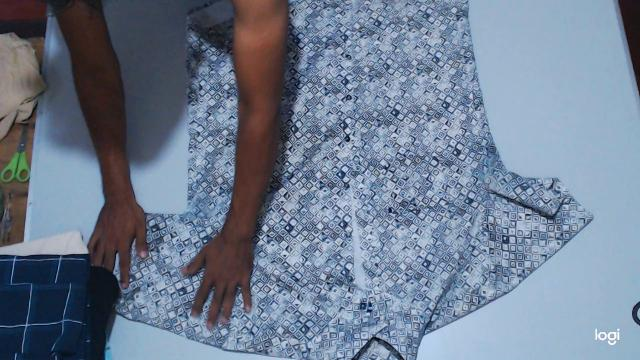new-garment: (118, 0, 592, 359)
